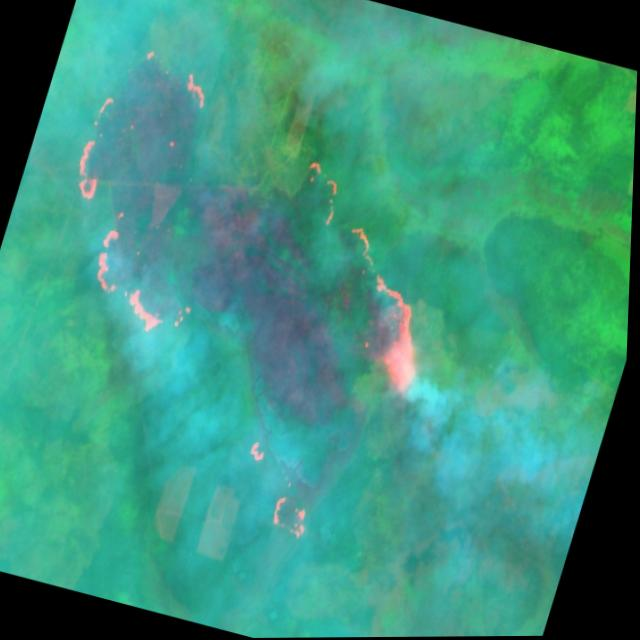fire: (33, 36, 245, 343), (247, 150, 475, 398), (224, 435, 341, 546)
